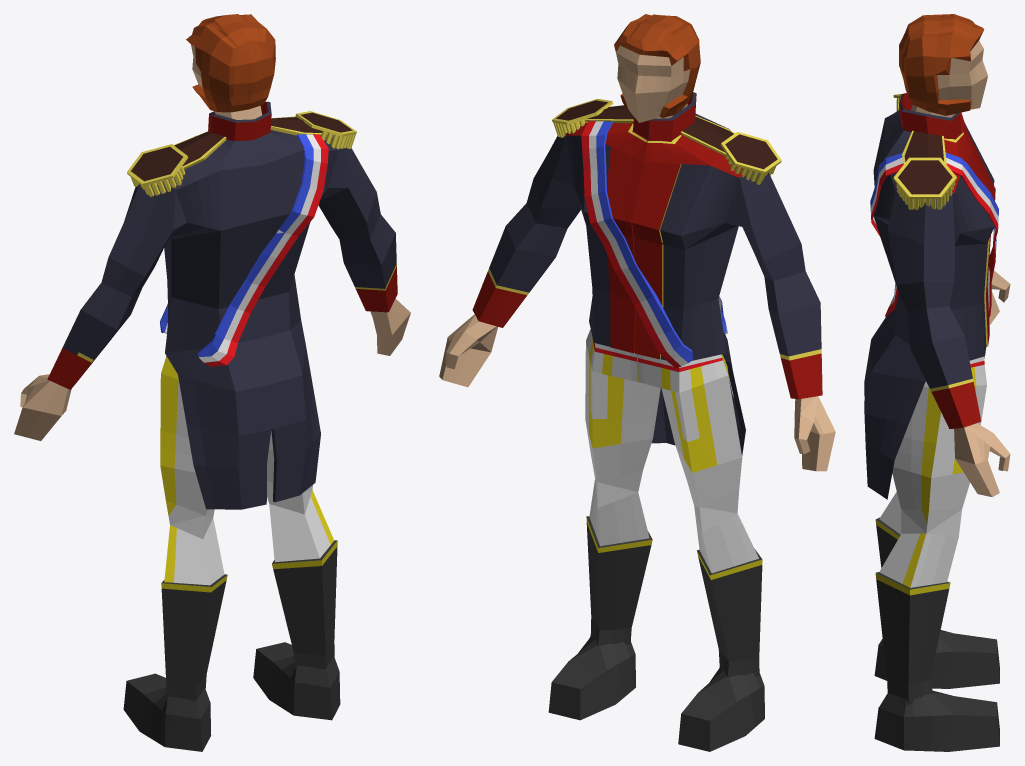
File: Bernardo Ohiggins.fbx
3 views of the same model, side by side, from view 1: azimuth 30°, elevation 25°; view 2: azimuth 150°, elevation 25°; view 3: azimuth 270°, elevation 25° (orthographic).
Parts seen in each view (by area): view 1: Ohiggins; view 2: Ohiggins; view 3: Ohiggins.
Part boxes in pixels (x1,y1,x2,y2): Ohiggins: [14, 14, 410, 751]; Ohiggins: [439, 14, 835, 751]; Ohiggins: [864, 14, 1010, 751].
Size of the model in its own units: 108 by 183 by 35.19.
